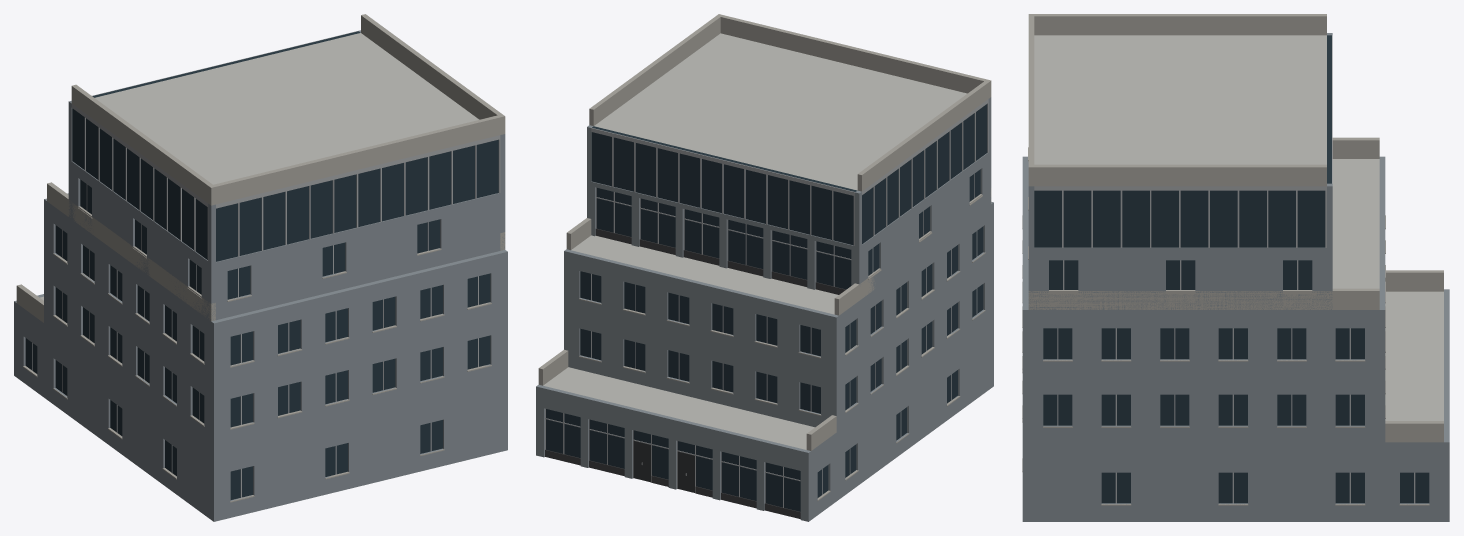
File: bld_t4_office.glb
3 views of the same model, side by side, from view 1: azimuth 30°, elevation 25°; view 2: azimuth 150°, elevation 25°; view 3: azimuth 270°, elevation 25° (orthographic). The views are drawn at different scales.
Parts seen in each view (by area): view 1: bld_t4_office-col; view 2: bld_t4_office-col; view 3: bld_t4_office-col.
Boxes of the visible parts, left/top/right/bottom form: bld_t4_office-col: left=14, top=14, right=507, bottom=521; bld_t4_office-col: left=536, top=14, right=993, bottom=521; bld_t4_office-col: left=1022, top=14, right=1449, bottom=521.
Size of the model in its own units: 18.66 by 20.07 by 21.93.
